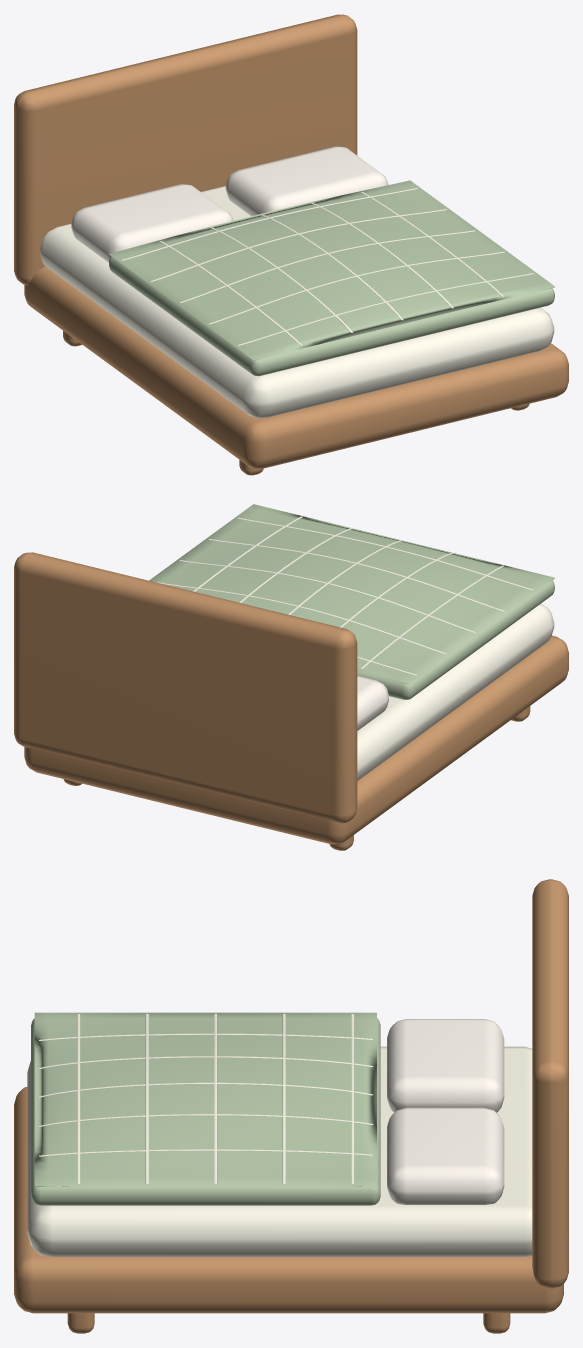
The model's file is bed-houseA.glb.
3 views of the same model, one above another, from view 1: azimuth 30°, elevation 25°; view 2: azimuth 150°, elevation 25°; view 3: azimuth 270°, elevation 25° (orthographic). The views are drawn at different scales.
Parts seen in each view (by area): view 1: Headboard, Soft quilt cloth, Bed frame, Mattress, Quilt padded hem, Pillow, Pillow.001; view 2: Headboard, Soft quilt cloth, Bed frame, Mattress, Quilt padded hem, Pillow, Quilt stitching.007, Quilt stitching.006, Quilt stitching.005, Quilt stitching.008; view 3: Soft quilt cloth, Mattress, Bed frame, Headboard, Pillow.001, Pillow, Quilt padded hem, Quilt stitching.007, Quilt stitching.008, Quilt stitching.006, Quilt stitching.005, Quilt stitching.003 (+4 smaller).
Part boxes in pixels (left/top/right/bottom): Headboard: left=14, top=14, right=357, bottom=285; Soft quilt cloth: left=109, top=180, right=555, bottom=360; Bed frame: left=24, top=266, right=568, bottom=468; Mattress: left=40, top=186, right=554, bottom=418; Quilt padded hem: left=109, top=256, right=554, bottom=376; Pillow: left=71, top=184, right=233, bottom=262; Pillow.001: left=225, top=146, right=388, bottom=216; Headboard: left=14, top=552, right=357, bottom=823; Soft quilt cloth: left=149, top=504, right=554, bottom=684; Bed frame: left=24, top=635, right=568, bottom=844; Mattress: left=357, top=603, right=554, bottom=780; Quilt padded hem: left=357, top=580, right=554, bottom=699; Pillow: left=357, top=676, right=388, bottom=730; Quilt stitching.007: left=179, top=560, right=475, bottom=632; Quilt stitching.006: left=208, top=539, right=504, bottom=611; Quilt stitching.005: left=238, top=517, right=533, bottom=590; Quilt stitching.008: left=155, top=582, right=446, bottom=654; Soft quilt cloth: left=34, top=1012, right=376, bottom=1187; Mattress: left=27, top=1046, right=532, bottom=1256; Bed frame: left=14, top=1087, right=563, bottom=1313; Headboard: left=532, top=879, right=568, bottom=1288; Pillow.001: left=387, top=1107, right=504, bottom=1204; Pillow: left=387, top=1019, right=504, bottom=1112; Quilt padded hem: left=31, top=1018, right=380, bottom=1205; Quilt stitching.007: left=214, top=1013, right=217, bottom=1183; Quilt stitching.008: left=282, top=1013, right=285, bottom=1183; Quilt stitching.006: left=145, top=1013, right=148, bottom=1183; Quilt stitching.005: left=77, top=1014, right=80, bottom=1183; Quilt stitching.003: left=38, top=1114, right=373, bottom=1126.
Size of the model in its own units: 1.88 by 1.28 by 2.27.
